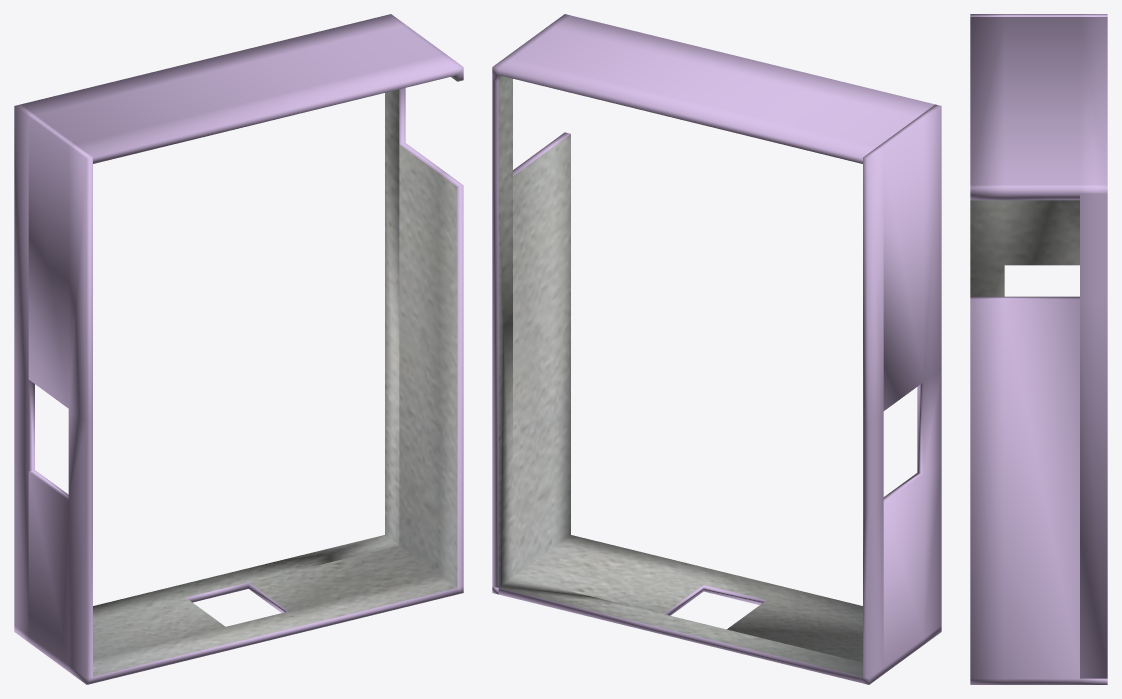
File: wall_bedroom_v2.fbx
3 renders of one model, left to right at view 1: azimuth 30°, elevation 25°; view 2: azimuth 150°, elevation 25°; view 3: azimuth 270°, elevation 25°, orthographic. The views are drawn at different scales.
Visible parts, largest first — view 1: Cube.001; view 2: Cube.001; view 3: Cube.001.
Boxes of the visible parts, <box> form: Cube.001: <box>14,14,463,684</box>; Cube.001: <box>492,14,941,684</box>; Cube.001: <box>970,14,1107,684</box>.
Bounding box in the file's own units: 0.03 × 0.04 × 0.01.
